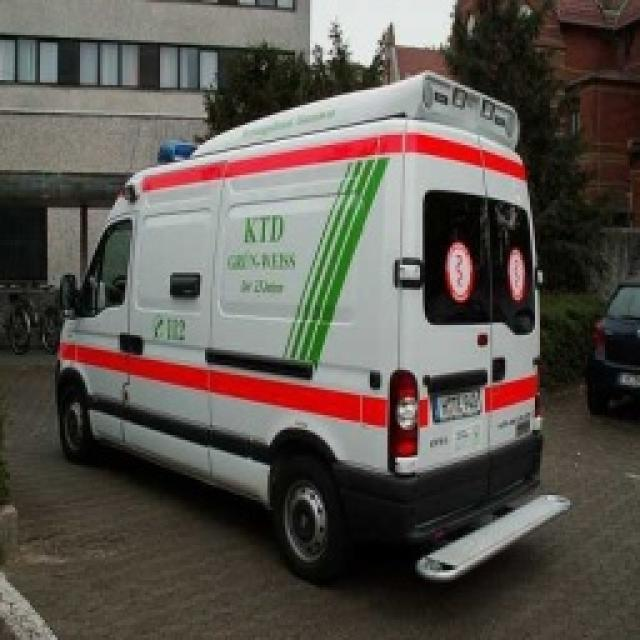ambulance: (41, 74, 580, 587)
